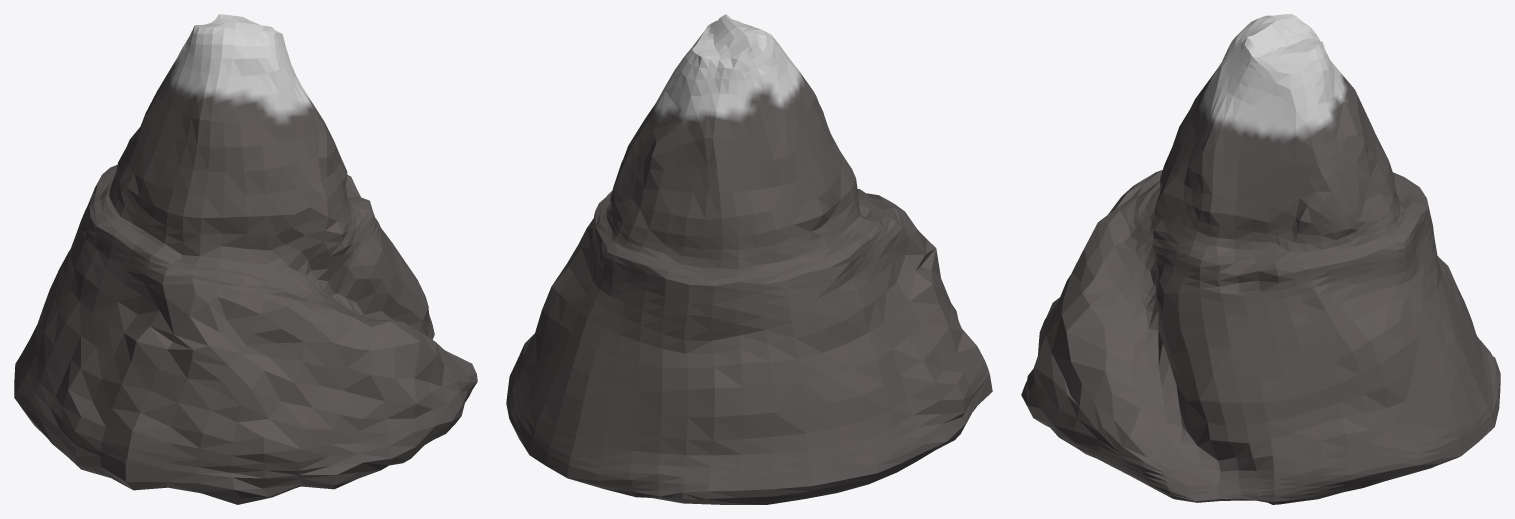
Rendered from Mountain Path 2.fbx.
3 views of the same model, side by side, from view 1: azimuth 30°, elevation 25°; view 2: azimuth 150°, elevation 25°; view 3: azimuth 270°, elevation 25° (orthographic). The views are drawn at different scales.
Visible parts, largest first — view 1: Mountain_Path_2; view 2: Mountain_Path_2; view 3: Mountain_Path_2.
Part boxes in pixels (x1,y1,x2,y2): Mountain_Path_2: (14,14,477,504); Mountain_Path_2: (506,14,992,504); Mountain_Path_2: (1021,14,1500,504).
Size of the model in its own units: 42.67 by 40 by 44.81.
1 material, 1 textured.
